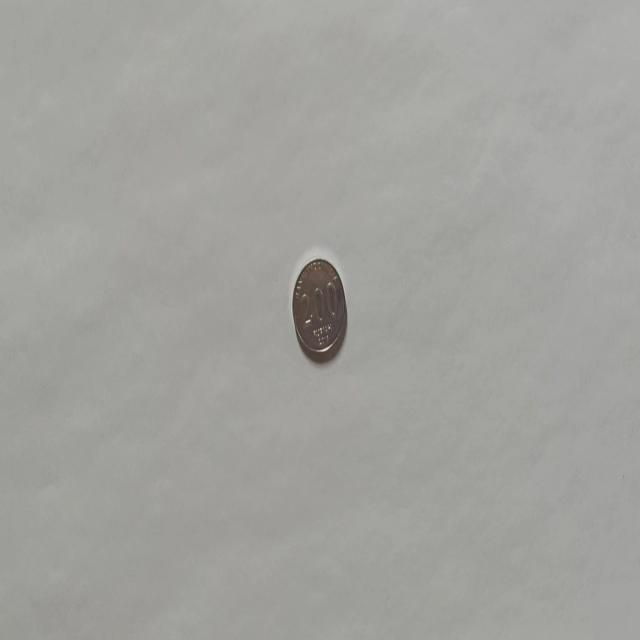dua ratus rupiah: (290, 255, 348, 358)
